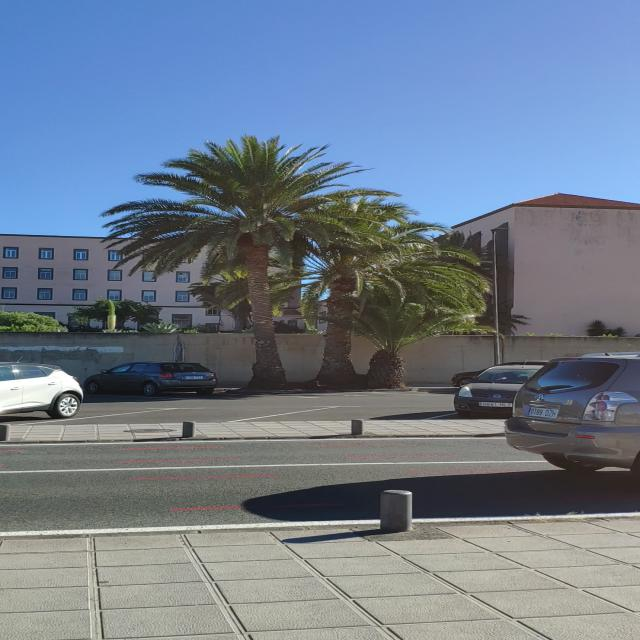Palm-Trees: (139, 135, 371, 385), (222, 198, 469, 382), (317, 304, 471, 387)
